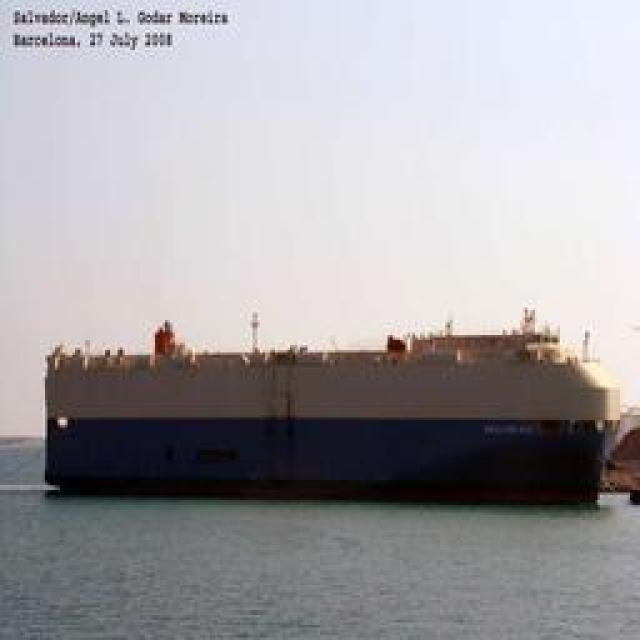CIV_Ship: (5, 315, 618, 503)
